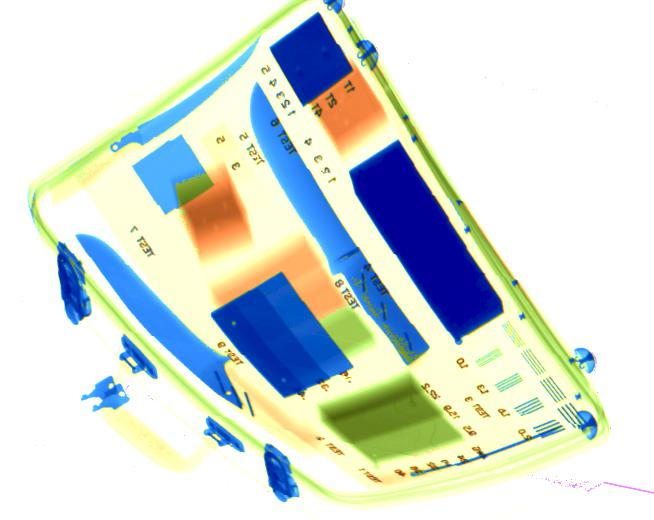Knife: (248, 81, 431, 366), (75, 231, 262, 421), (105, 32, 260, 151)
